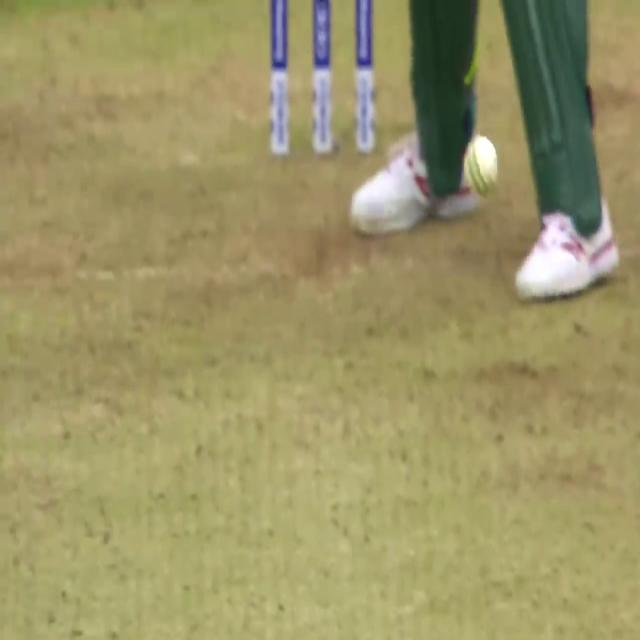ball: (458, 121, 510, 211)
